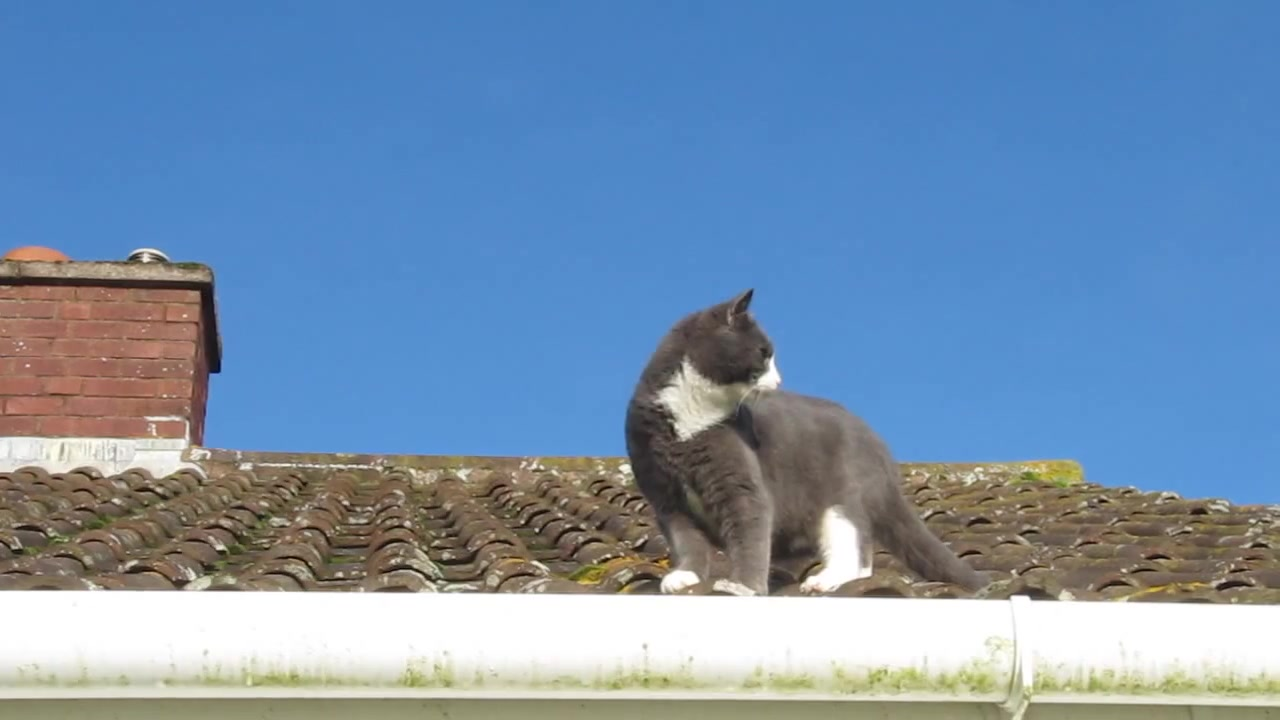cat: (624, 290, 995, 599)
